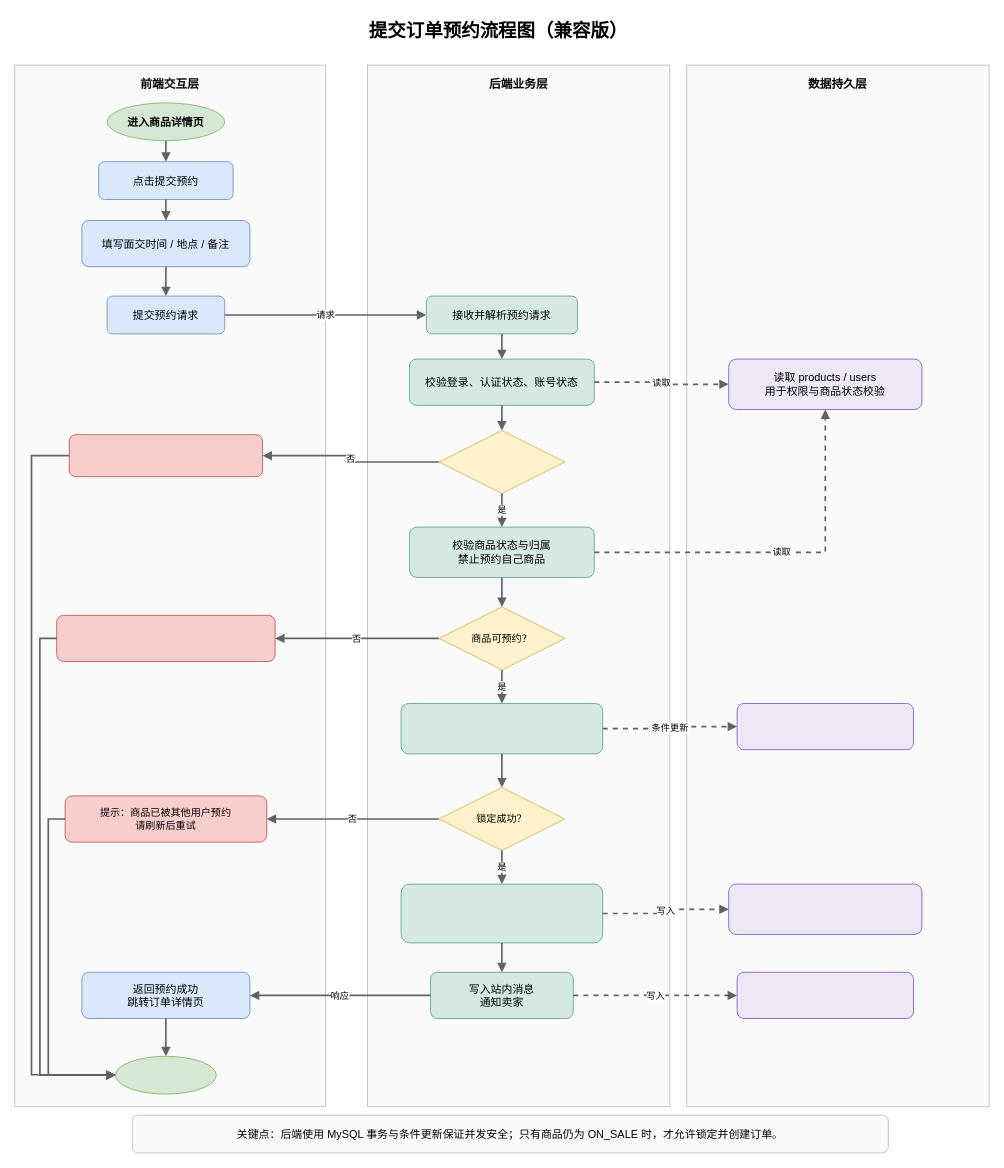
The diagram is 1004 pixels wide and 1168 high, and some of its shapes have lost their labels. Here are the shapes that lost their labels. From the top down, the centre of each, then its label:
At (165,455): "提示：未登录 / 未认证 / 账号异常".
At (501,462): "用户校验通过？".
At (165,638): "提示：商品已锁定、已售、下架 或不能预约自己商品".
At (501,728): "开启事务并锁定商品 条件更新 ON_SALE→LOCKED".
At (825,726): "更新 products status=LOCKED".
At (501,913): "创建订单 status=PENDING_CONFIRM expire_time=创建时间+24h".
At (825,908): "写入 orders 保存订单快照与截止时间".
At (825,994): "写入 messages 生成卖家通知".
At (165,1074): "流程结束".
